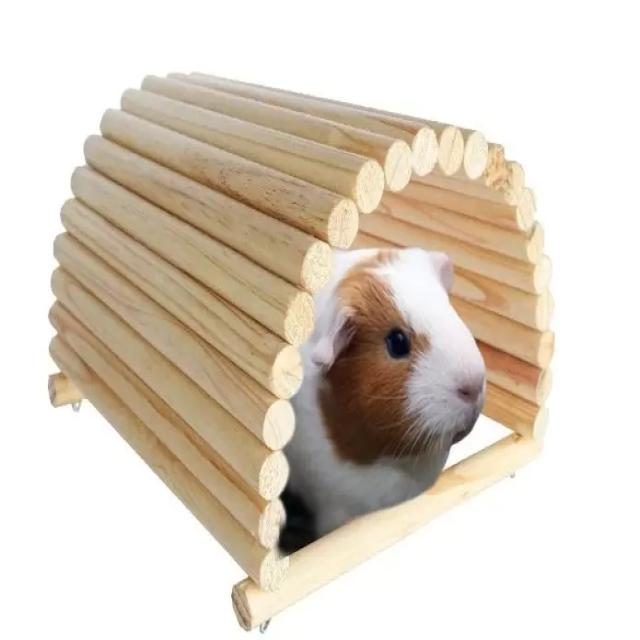guinea pig: (286, 249, 478, 509)
